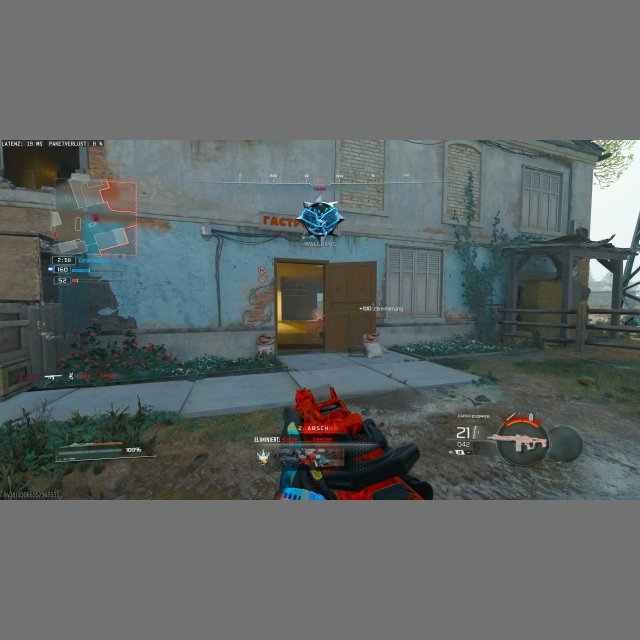player: (299, 200, 343, 239)
